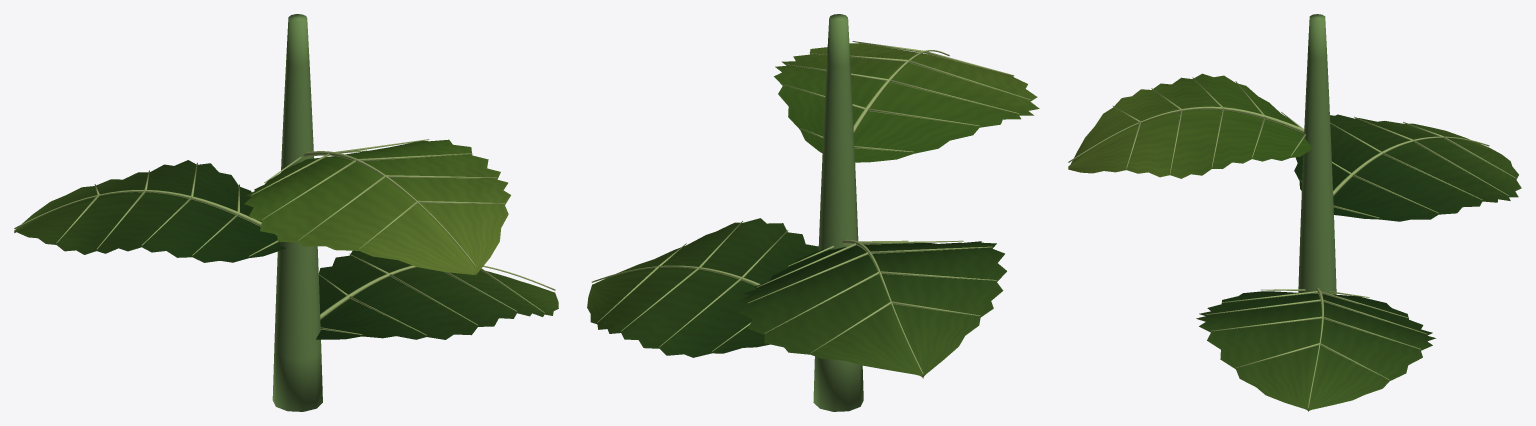
File: hydrangea-02.glb
3 renders of one model, left to right at view 1: azimuth 30°, elevation 25°; view 2: azimuth 150°, elevation 25°; view 3: azimuth 270°, elevation 25°, orthographic. The views are drawn at different scales.
Visible parts, largest first — view 1: hydrangea_stage_02_leaf_veins.002, hydrangea_stage_02_young_leaf.002, hydrangea_stage_02_stem_fibres.002, hydrangea_stage_02_raised_midveins.002; view 2: hydrangea_stage_02_leaf_veins.002, hydrangea_stage_02_young_leaf.002, hydrangea_stage_02_stem_fibres.002, hydrangea_stage_02_raised_midveins.002; view 3: hydrangea_stage_02_leaf_veins.002, hydrangea_stage_02_young_leaf.002, hydrangea_stage_02_stem_fibres.002, hydrangea_stage_02_raised_midveins.002.
Part boxes in pixels (x1=…): hydrangea_stage_02_leaf_veins.002: x1=14, y1=160, x2=558, y2=339; hydrangea_stage_02_young_leaf.002: x1=244, y1=139, x2=510, y2=275; hydrangea_stage_02_stem_fibres.002: x1=272, y1=14, x2=322, y2=411; hydrangea_stage_02_raised_midveins.002: x1=14, y1=139, x2=555, y2=335; hydrangea_stage_02_leaf_veins.002: x1=587, y1=218, x2=1006, y2=378; hydrangea_stage_02_young_leaf.002: x1=774, y1=43, x2=1039, y2=162; hydrangea_stage_02_stem_fibres.002: x1=813, y1=14, x2=863, y2=411; hydrangea_stage_02_raised_midveins.002: x1=591, y1=41, x2=1030, y2=374; hydrangea_stage_02_leaf_veins.002: x1=1196, y1=114, x2=1521, y2=411; hydrangea_stage_02_young_leaf.002: x1=1068, y1=73, x2=1312, y2=178; hydrangea_stage_02_stem_fibres.002: x1=1298, y1=14, x2=1336, y2=294; hydrangea_stage_02_raised_midveins.002: x1=1068, y1=77, x2=1516, y2=408.
Size of the model in its own units: 0.0819 by 0.0669 by 0.0831.
4 materials, 2 textured.
